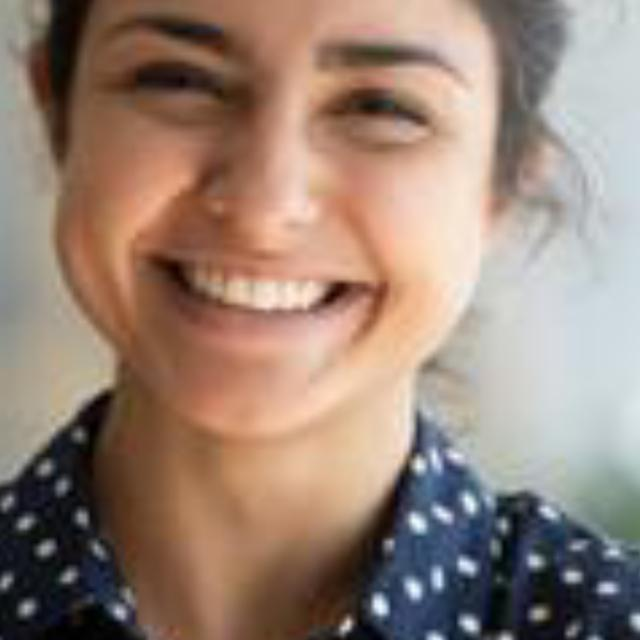Happy: (0, 0, 543, 545)
